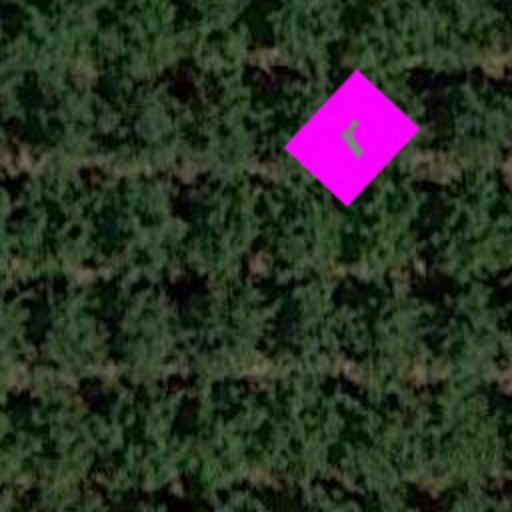rectangle: (276, 62, 428, 214)
